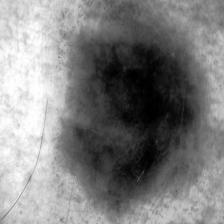Benign Marking or Mole: (58, 25, 206, 213)
